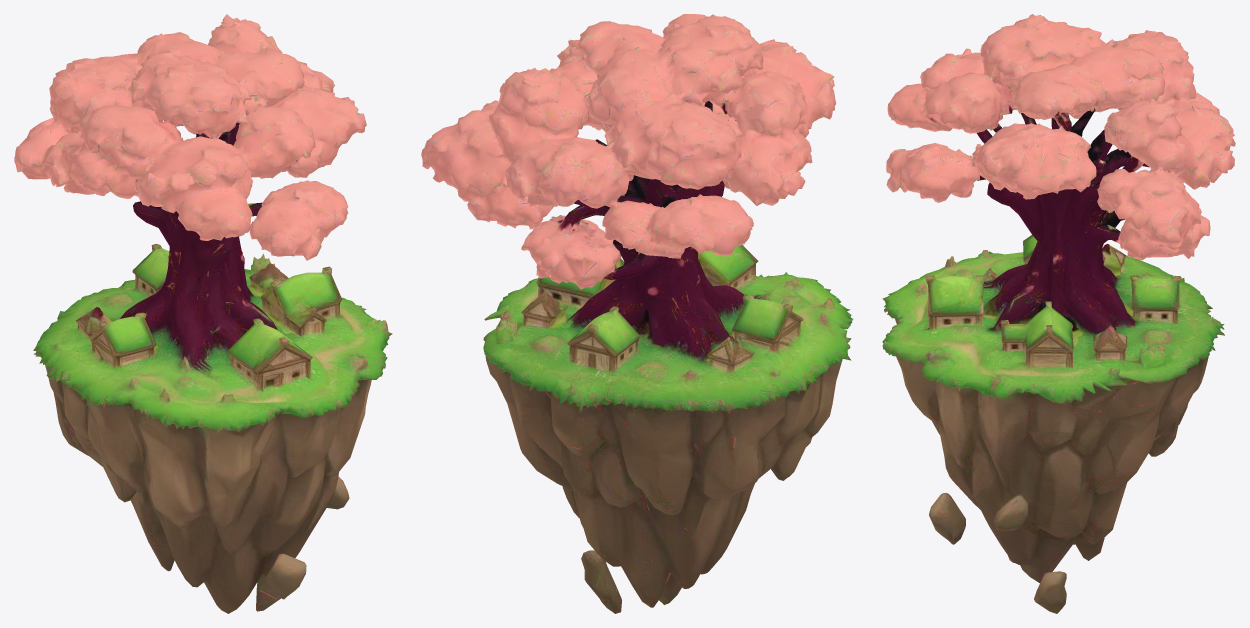
File: core.glb
3 views of the same model, side by side, from view 1: azimuth 30°, elevation 25°; view 2: azimuth 150°, elevation 25°; view 3: azimuth 270°, elevation 25° (orthographic). The views are drawn at different scales.
Visible parts, largest first — view 1: Mesh_0; view 2: Mesh_0; view 3: Mesh_0.
Part boxes in pixels (x1,y1,x2,y2): Mesh_0: [14, 14, 392, 613]; Mesh_0: [421, 14, 853, 613]; Mesh_0: [882, 14, 1235, 613].
Size of the model in its own units: 1.13 by 1.89 by 1.1.
1 material, 1 textured.
